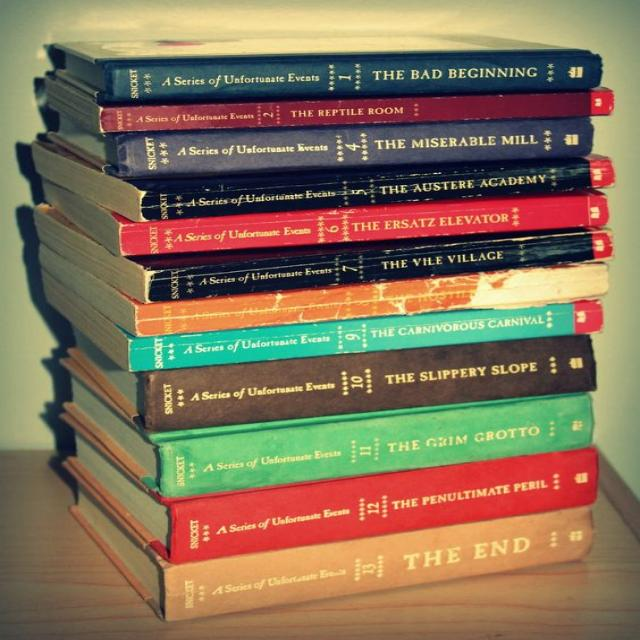book: (164, 508, 590, 622), (172, 449, 597, 563), (158, 397, 593, 501), (145, 335, 598, 432), (147, 230, 612, 303), (129, 300, 603, 371), (135, 266, 609, 337), (123, 197, 608, 257), (139, 161, 617, 221), (118, 121, 593, 177), (106, 54, 600, 102), (100, 90, 614, 131)
